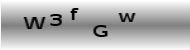3: (48, 13, 63, 26)
G: (92, 23, 108, 38)
W: (23, 16, 46, 30)
f: (69, 7, 80, 21)
w: (118, 11, 135, 23)
